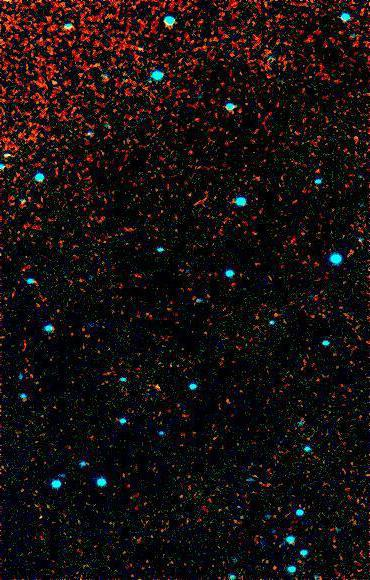star: (143, 371, 173, 401)
